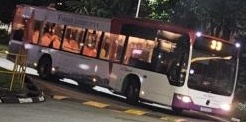bus: (205, 36, 224, 53)
